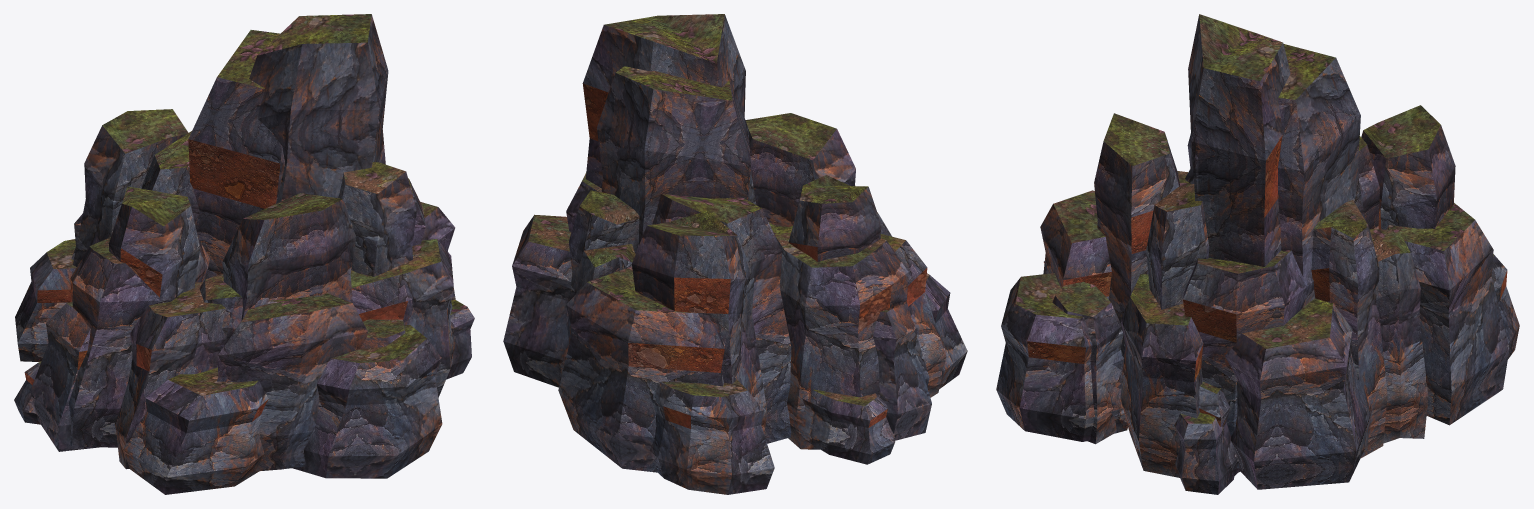
The model's file is basalt_buttress.glb.
The picture shows the model from 3 angles, left to right: view 1: azimuth 30°, elevation 25°; view 2: azimuth 150°, elevation 25°; view 3: azimuth 270°, elevation 25°; orthographic projection. The views are drawn at different scales.
Parts seen in each view (by area): view 1: basalt_buttress; view 2: basalt_buttress; view 3: basalt_buttress.
Part boxes in pixels (<box>): basalt_buttress: <box>14,14,474,494</box>; basalt_buttress: <box>503,14,967,494</box>; basalt_buttress: <box>996,14,1519,494</box>.
Size of the model in its own units: 3.13 by 2.78 by 3.17.
Materials: 3 (3 with a texture image).
